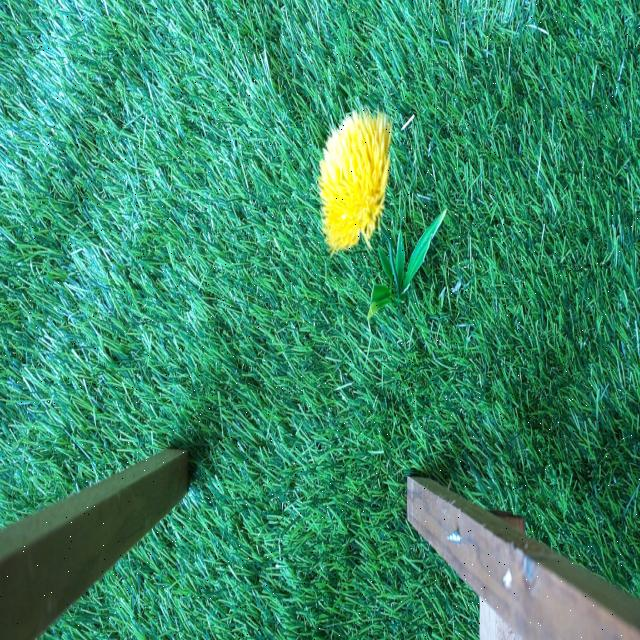base: (368, 209, 446, 317)
flower: (317, 114, 388, 252)
